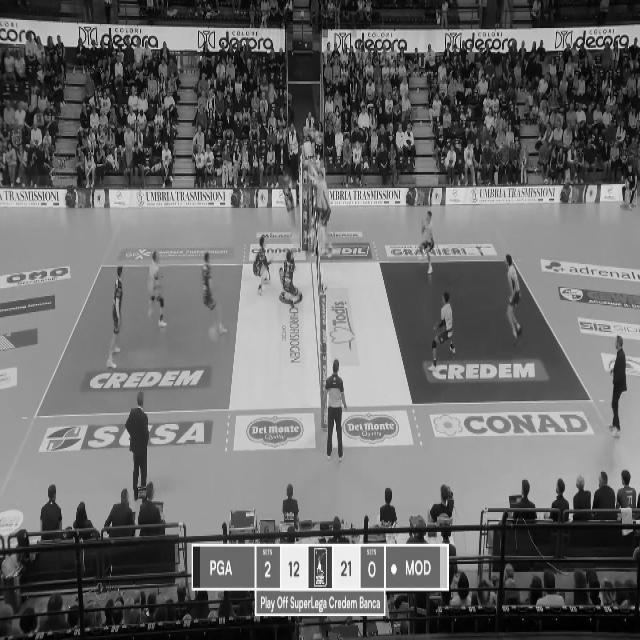volleyball court: (36, 256, 594, 414)
